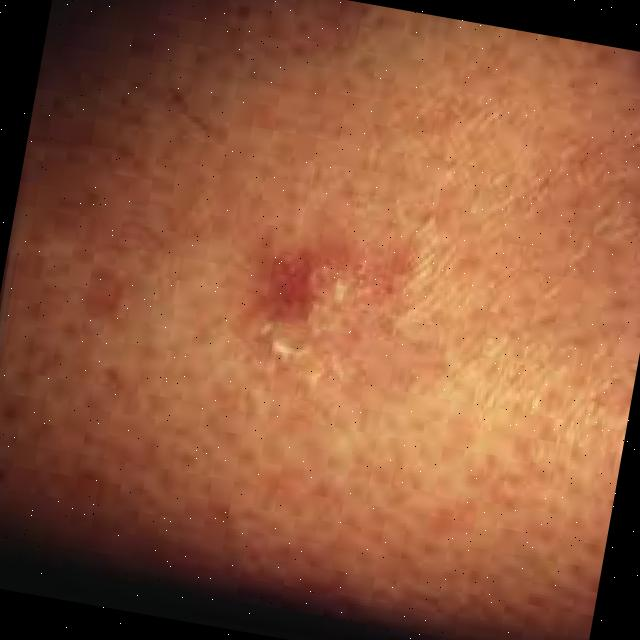kene: (184, 194, 455, 425)
